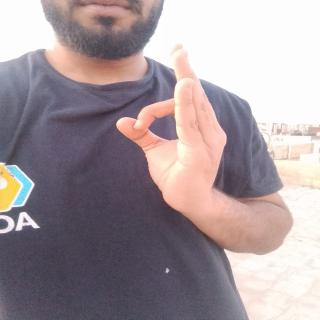Space: (111, 40, 234, 208)
